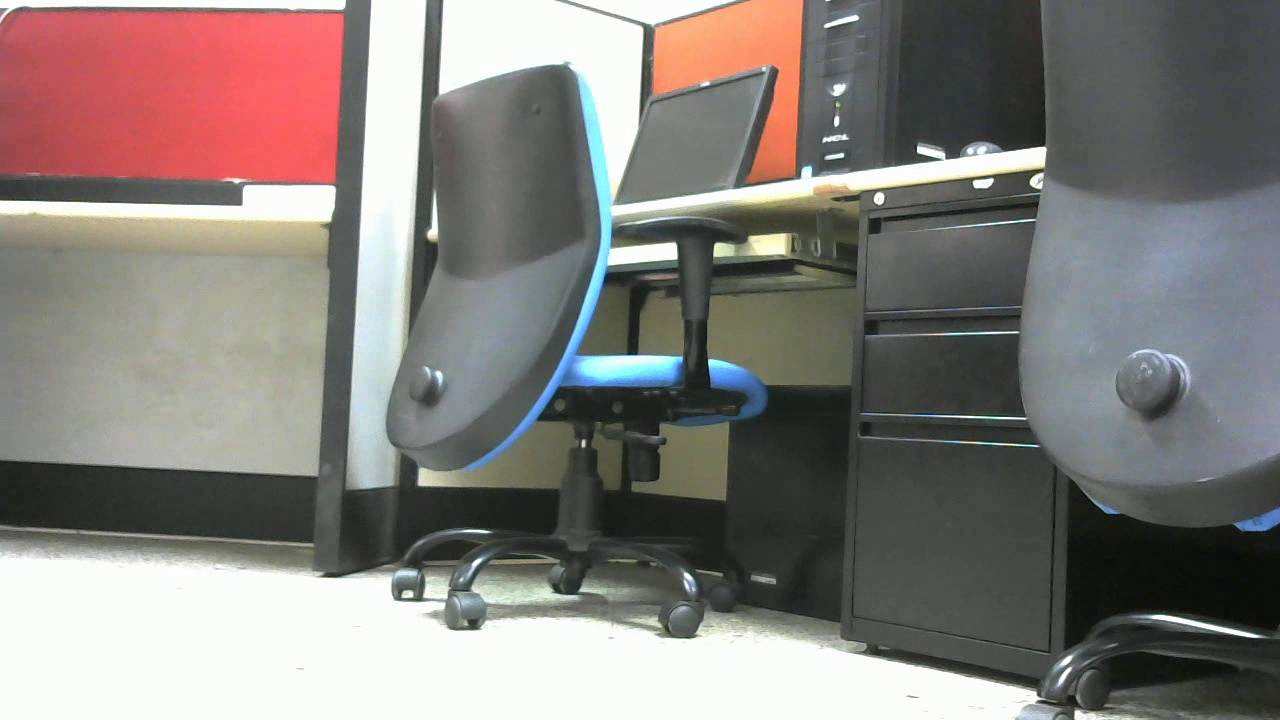chair: (384, 64, 759, 638), (1010, 1, 1280, 720)
